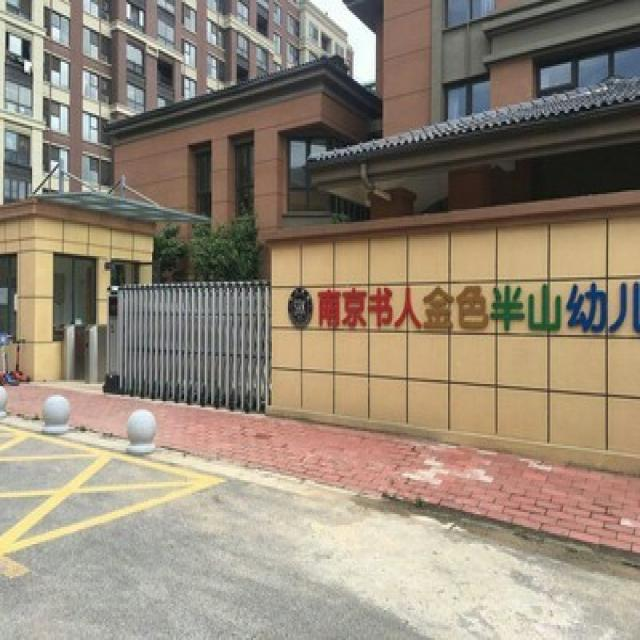spherical_roadblock: (125, 403, 155, 452), (40, 390, 70, 433)
